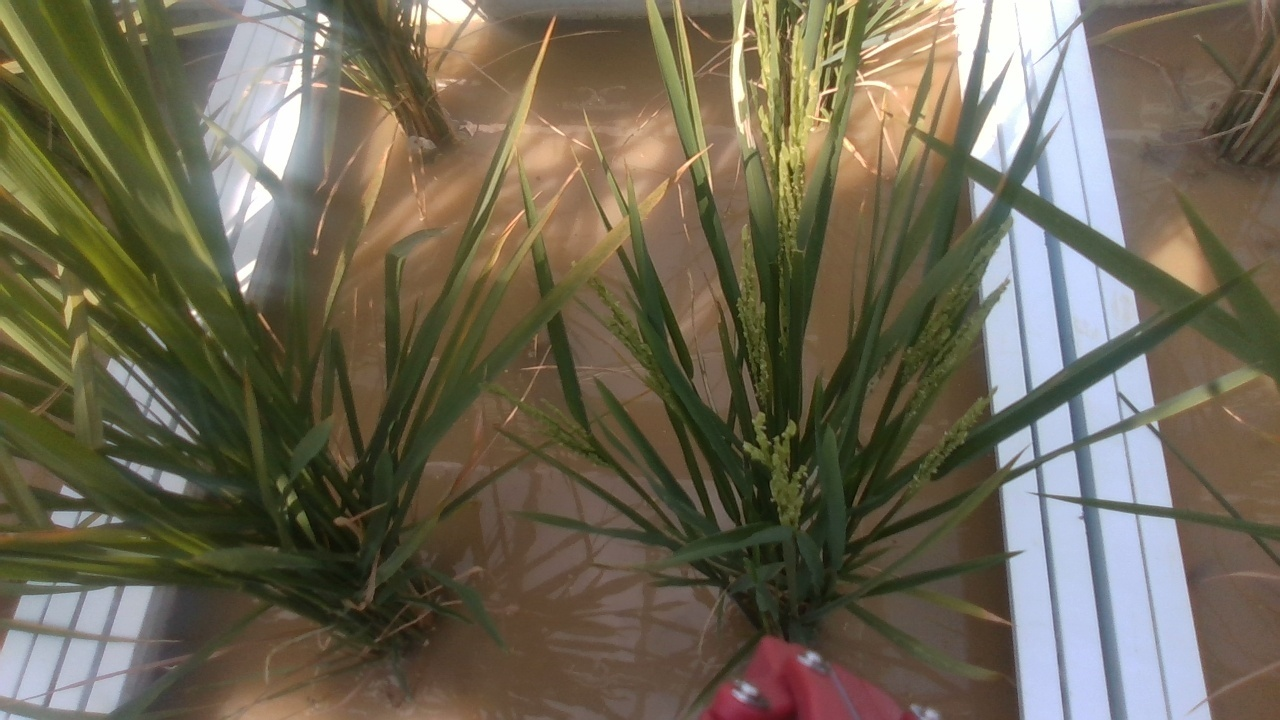panicle: (906, 227, 1019, 373), (477, 379, 613, 470), (903, 393, 1010, 488), (775, 19, 818, 214), (748, 412, 807, 523), (591, 277, 655, 371), (735, 227, 767, 379)
